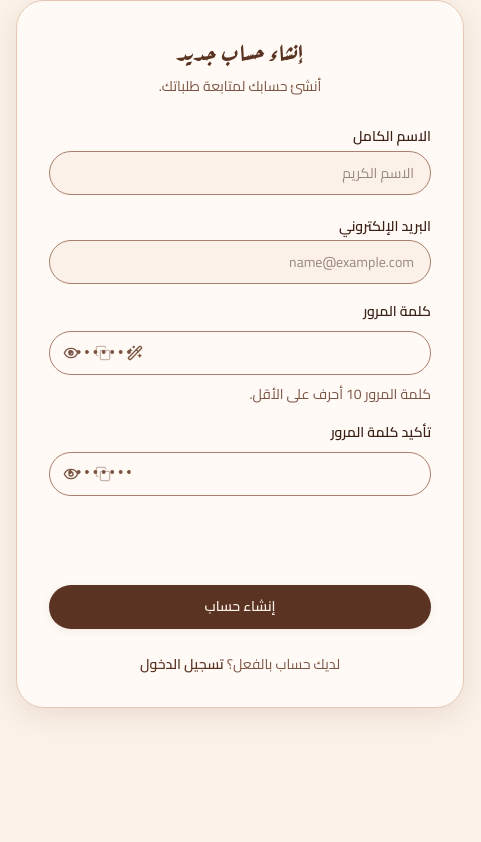
Scenario: RegisterPage › shows AUTH-001 when submitting with missing fields
The width and height of the screenshot is (481, 842).
Click the button "إنشاء حساب": (240, 607) [49, 585, 431, 629]
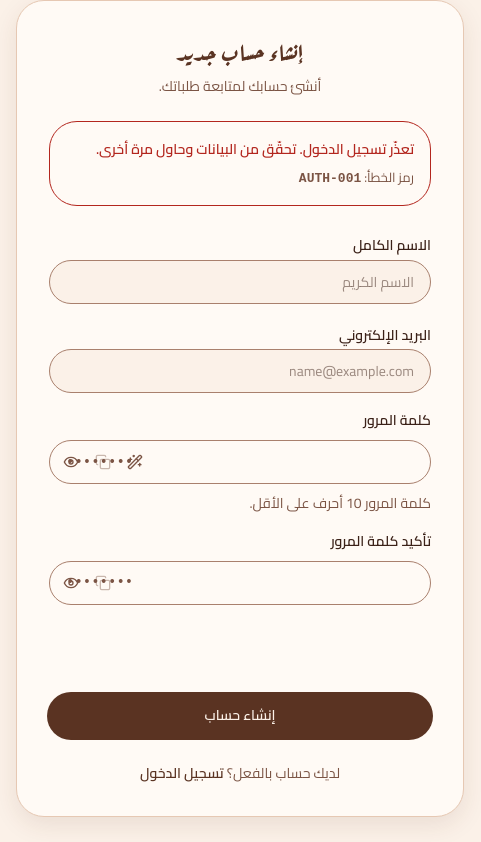
Expected: the message "تعذّر تسجيل الدخول. تحقّق من البيانات وحاول مرة أخرى. رمز الخطأ: AUTH-001" is shown, [49, 121, 431, 206]
Expected: the text "AUTH-001" is shown, [299, 171, 361, 186]
